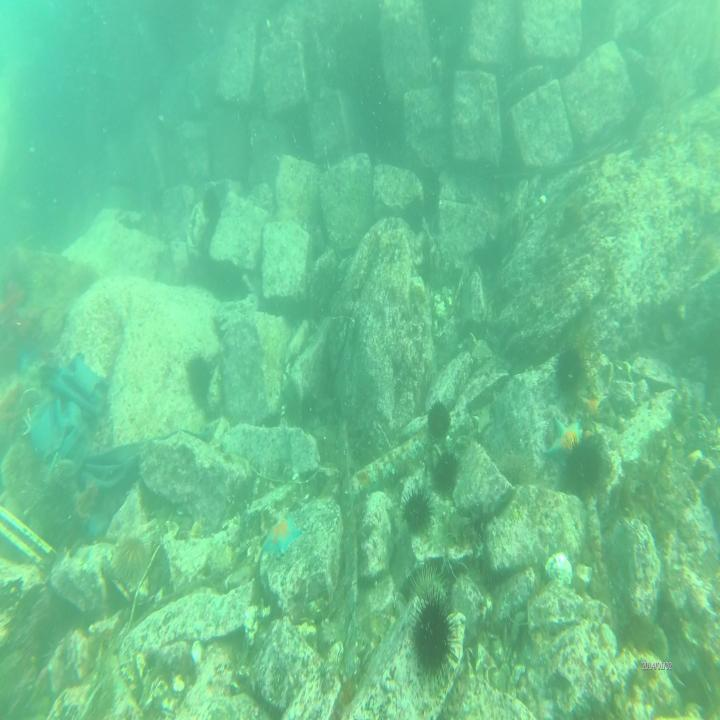echinus: (405, 594, 462, 683), (405, 562, 451, 614), (566, 435, 604, 494), (398, 482, 434, 537), (111, 537, 152, 579), (430, 445, 462, 491), (554, 343, 581, 396), (427, 396, 452, 439)
scallop: (544, 547, 573, 595)
starfish: (544, 413, 586, 468), (262, 515, 302, 557)
